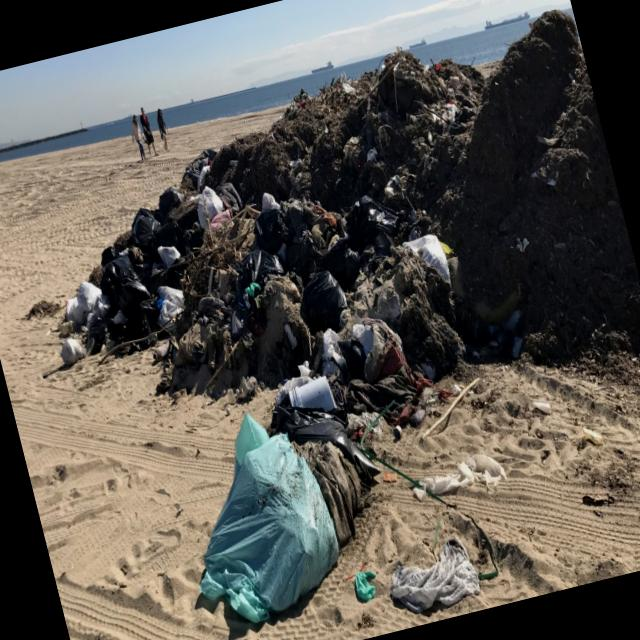garbage: (25, 55, 640, 640)
